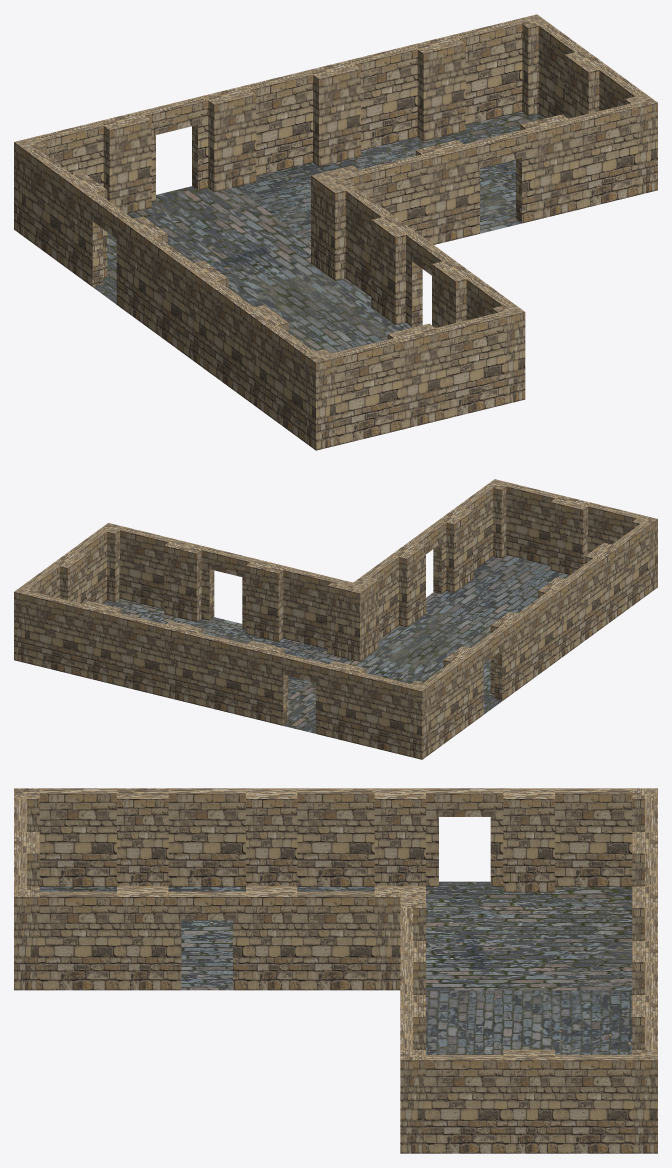
The model's file is 1_5wideLRoomCorner.fbx.
The picture shows the model from 3 angles, top to bottom: view 1: azimuth 30°, elevation 25°; view 2: azimuth 150°, elevation 25°; view 3: azimuth 270°, elevation 25°; orthographic projection. The views are drawn at different scales.
Visible parts, largest first — view 1: Cube_11, Plane_1; view 2: Cube_11, Plane_1; view 3: Cube_11, Plane_1.
Boxes of the visible parts, x1=… form: Cube_11: x1=14, y1=14, x2=657, y2=450; Plane_1: x1=93, y1=111, x2=545, y2=353; Cube_11: x1=14, y1=479, x2=657, y2=759; Plane_1: x1=102, y1=555, x2=569, y2=733; Cube_11: x1=14, y1=788, x2=657, y2=1153; Plane_1: x1=39, y1=881, x2=632, y2=1054.
Size of the model in its own units: 50 by 8 by 50.
2 materials, 2 textured.
